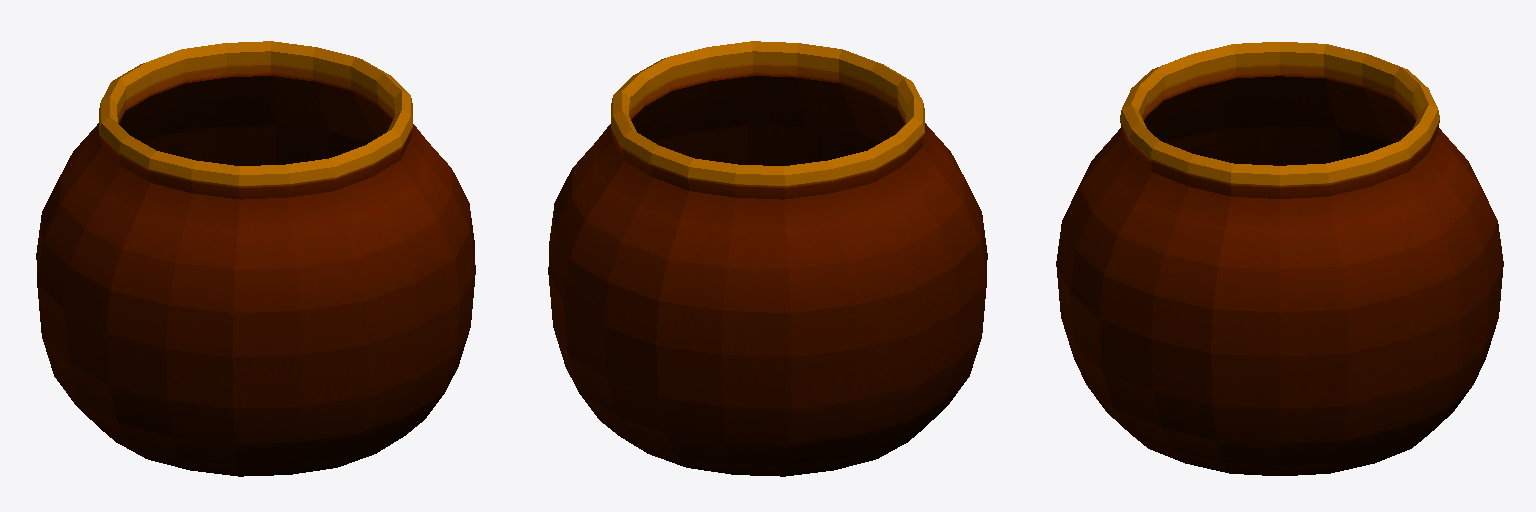
The picture shows the model from 3 angles: view 1: azimuth 30°, elevation 25°; view 2: azimuth 150°, elevation 25°; view 3: azimuth 270°, elevation 25°; orthographic projection.
Parts seen in each view (by area): view 1: StylizedPot-01_Cylinder.001; view 2: StylizedPot-01_Cylinder.001; view 3: StylizedPot-01_Cylinder.001.
Boxes of the visible parts, x1,y1,x2,y2 form: StylizedPot-01_Cylinder.001: [36, 41, 475, 476]; StylizedPot-01_Cylinder.001: [548, 41, 987, 476]; StylizedPot-01_Cylinder.001: [1056, 42, 1503, 475].
Size of the model in its own units: 1.25 by 0.949 by 1.26.
1 materials, 1 textured.